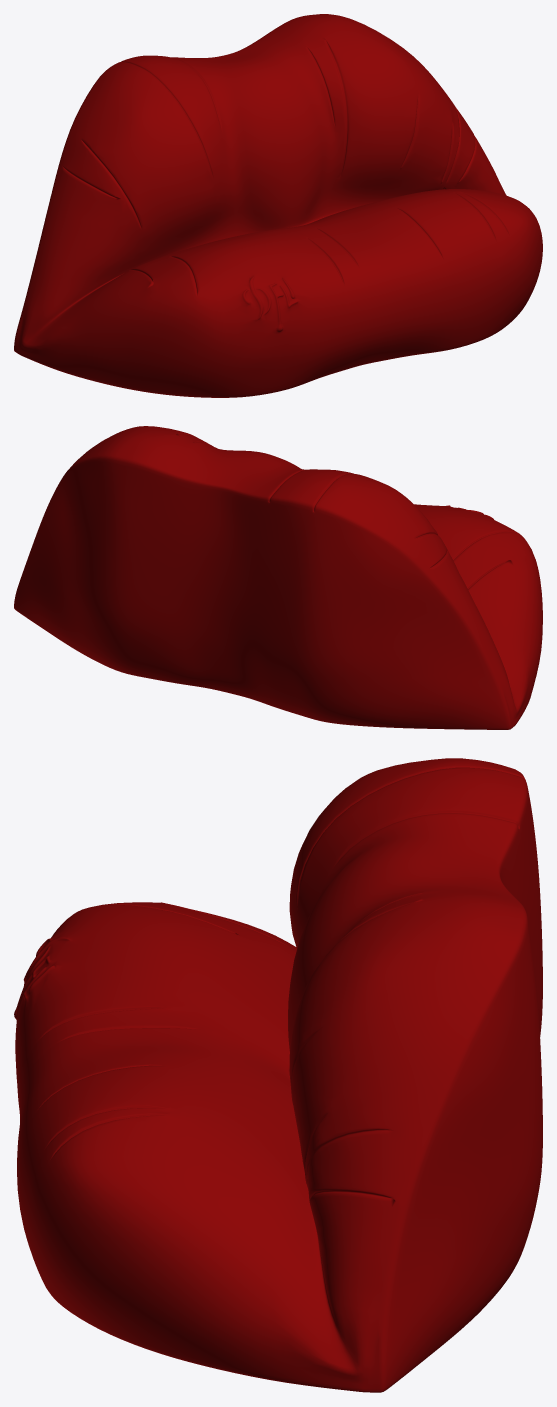
The model's file is DALILIPS BD Barcelona Design.FBX.
3 renders of one model, top to bottom at view 1: azimuth 30°, elevation 25°; view 2: azimuth 150°, elevation 25°; view 3: azimuth 270°, elevation 25°, orthographic. The views are drawn at different scales.
Visible parts, largest first — view 1: DALILIPS BD Barcelona Design; view 2: DALILIPS BD Barcelona Design; view 3: DALILIPS BD Barcelona Design.
Boxes of the visible parts, x1,y1,x2,y2 form: DALILIPS BD Barcelona Design: [14, 14, 542, 397]; DALILIPS BD Barcelona Design: [14, 426, 542, 729]; DALILIPS BD Barcelona Design: [14, 758, 542, 1392].
Bounding box in the file's own units: 171 × 75.51 × 99.68.
